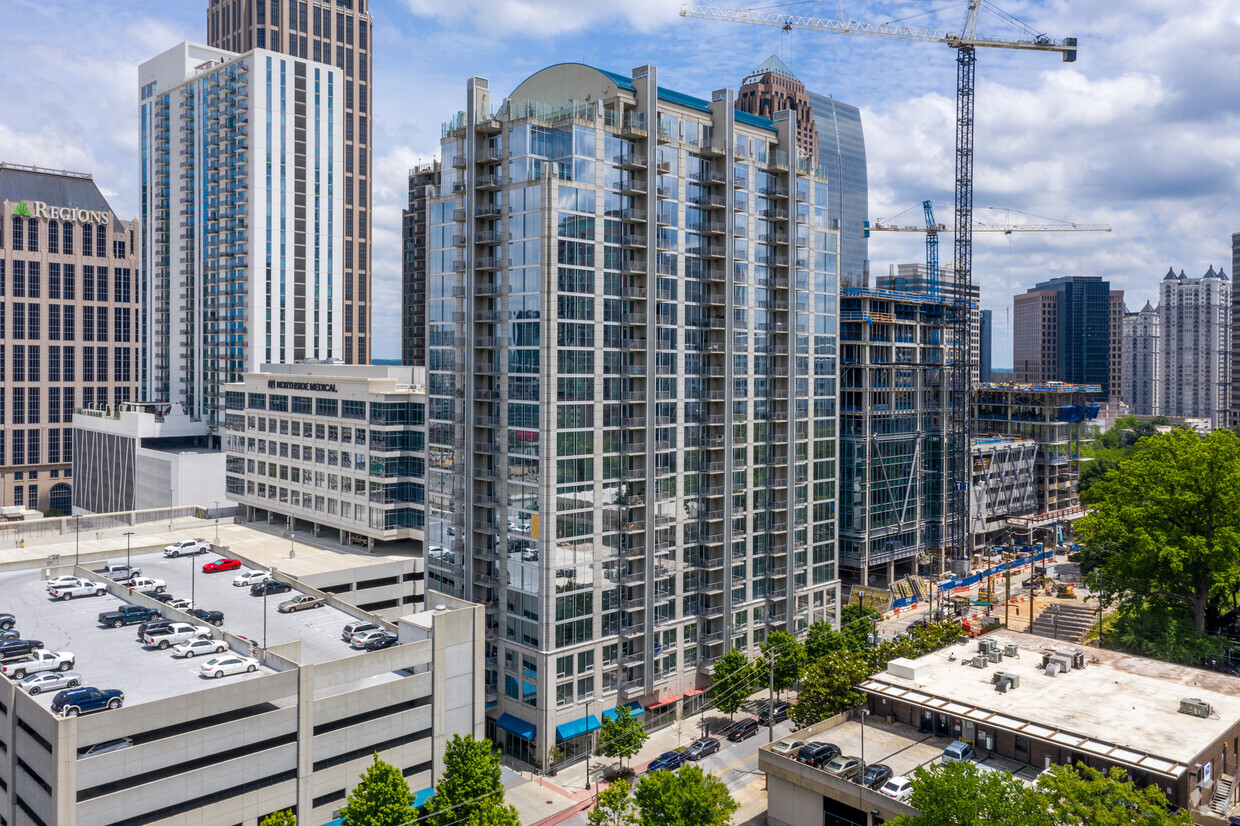Sky Building: (407, 58, 853, 706), (120, 1, 383, 447)
